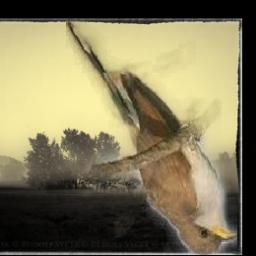Cuckoo: (66, 20, 237, 255)
